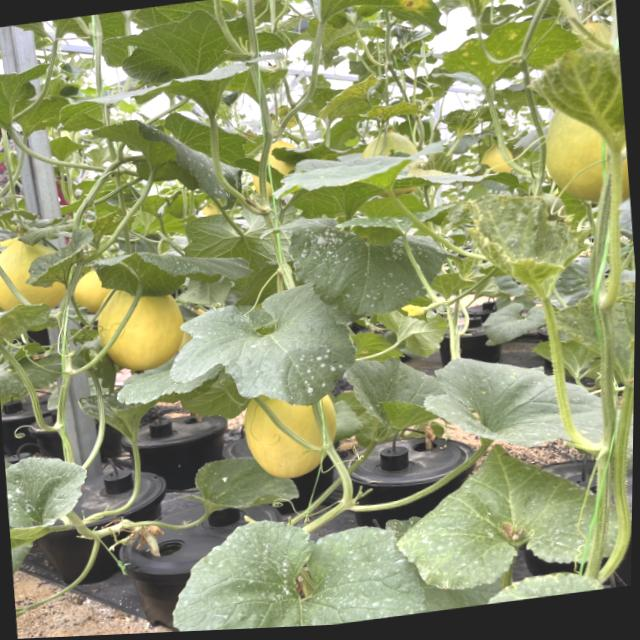CMV: (15, 226, 98, 291), (358, 96, 427, 126), (332, 73, 386, 109)
alternaria leaf blight: (264, 0, 445, 59)
downy mildew: (385, 431, 598, 599), (265, 202, 461, 325), (420, 345, 564, 460), (274, 137, 435, 207), (0, 295, 54, 343)
healthy: (54, 52, 265, 130), (99, 3, 253, 93), (93, 236, 260, 307), (169, 206, 273, 285), (86, 110, 189, 177), (167, 100, 255, 171), (0, 62, 51, 131)
powdery mildew: (166, 504, 420, 632), (170, 287, 377, 421), (415, 343, 570, 460), (3, 450, 91, 529)
